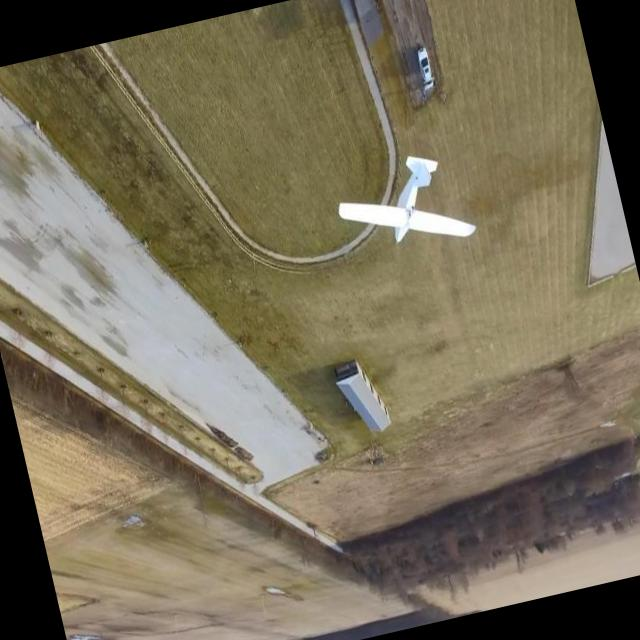UAV: (277, 96, 498, 308)
